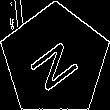N_NE: (24, 30, 86, 92)
